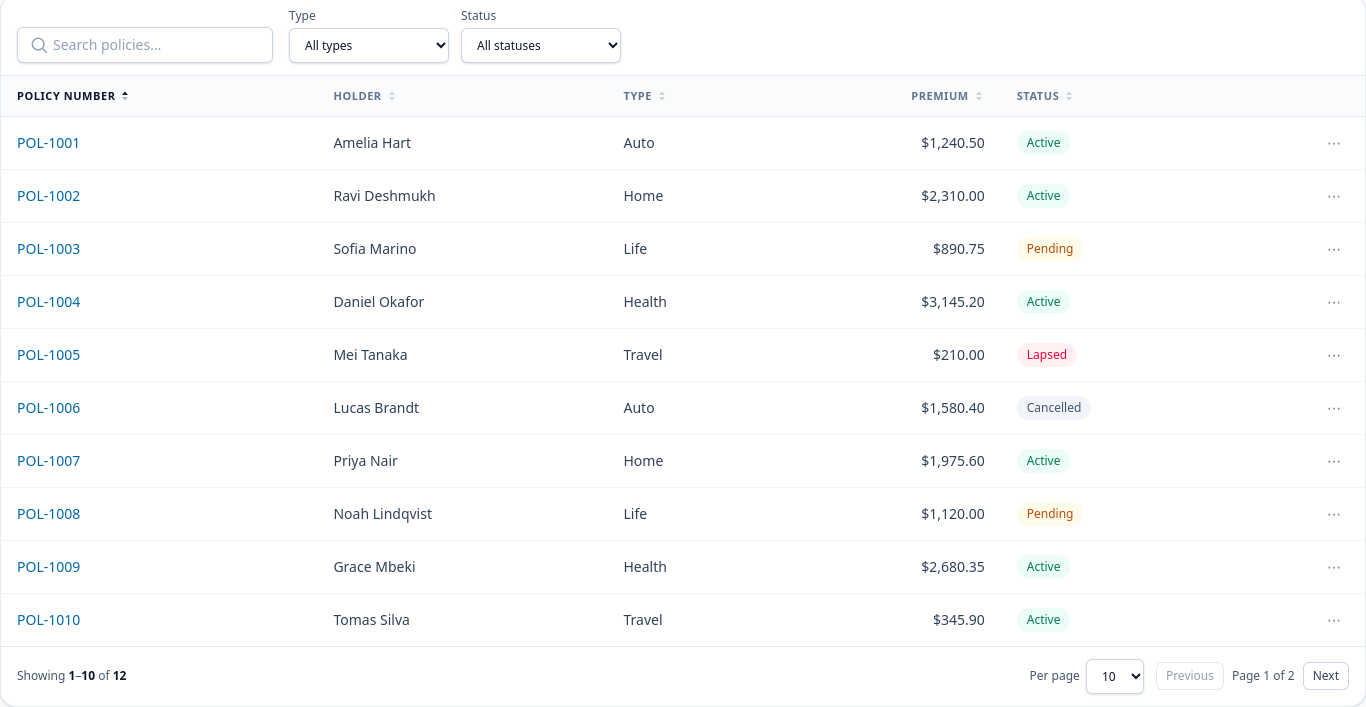
Test: PolicyListPage › moves to the next page
(page scrolled)
Expected: the link "POL-1001" is shown, [17,133,80,152]
Click the button "Next". click: (1326, 676)
box: [1303,662,1349,690]
(page scrolled)
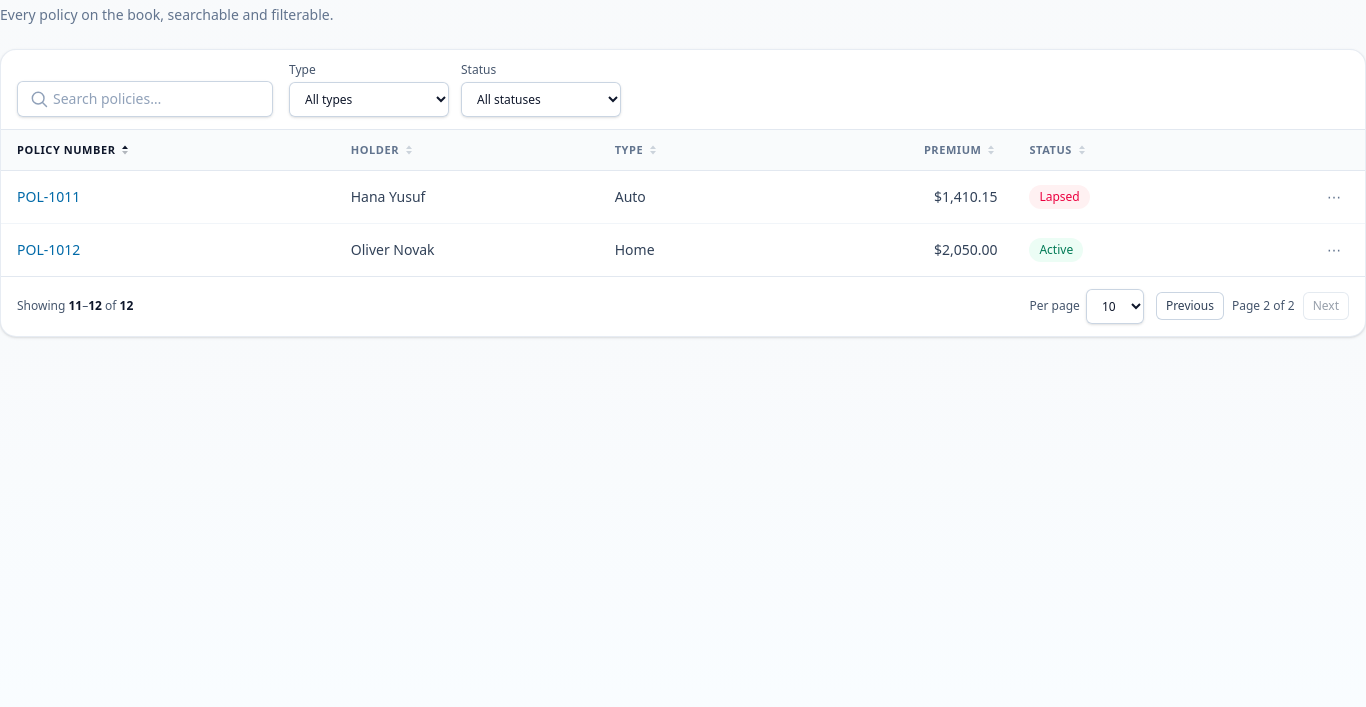
Expected: the link "POL-1011" is shown, [17,187,80,206]
Expected: the link "POL-1001" is gone
